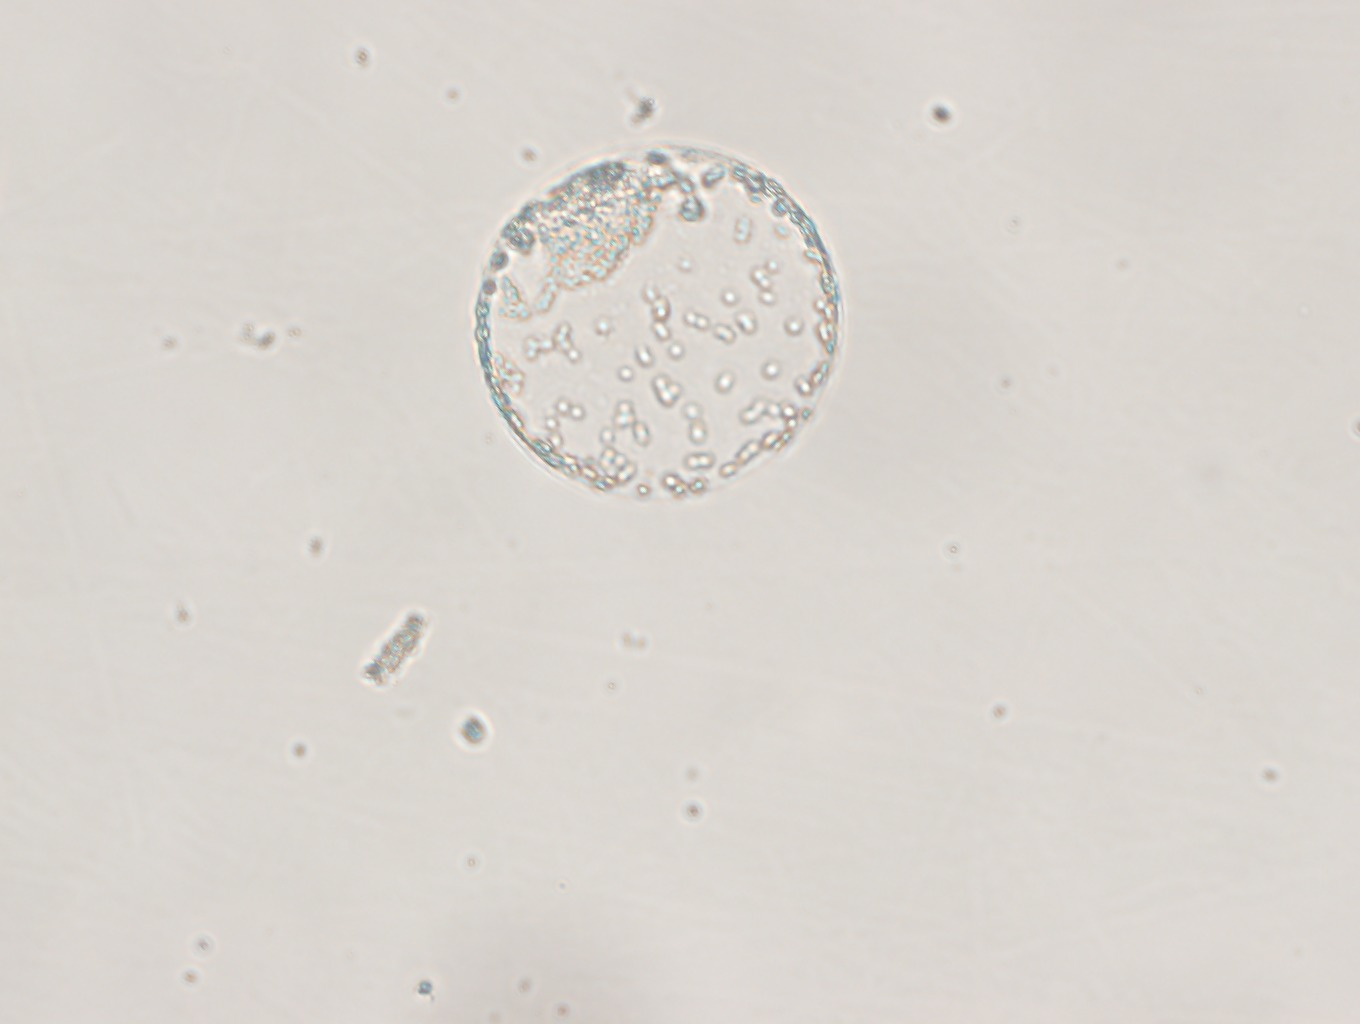coscinodiscus: (468, 141, 847, 512)
